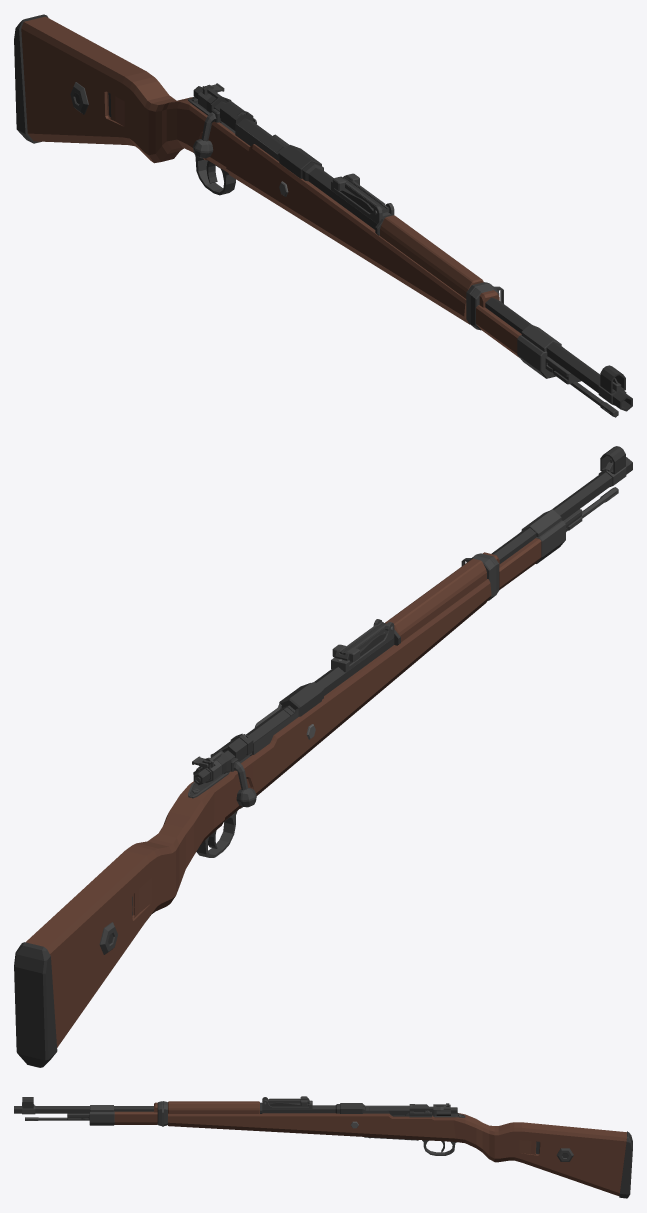
The model's file is WWII_Recon_0418.fbx.
3 views of the same model, one above another, from view 1: azimuth 30°, elevation 25°; view 2: azimuth 150°, elevation 25°; view 3: azimuth 270°, elevation 25° (orthographic). The views are drawn at different scales.
Visible parts, largest first — view 1: WWII_Recon_A_Receiver, WWII_Recon_A_Barrel, WWII_Recon_A_Sight, WWII_Recon_A_Bolt, WWII_Recon_A_Bolt_Part; view 2: WWII_Recon_A_Receiver, WWII_Recon_A_Barrel, WWII_Recon_A_Bolt, WWII_Recon_A_Sight; view 3: WWII_Recon_A_Receiver, WWII_Recon_A_Barrel, WWII_Recon_A_Bolt, WWII_Recon_A_Sight.
Boxes of the visible parts, x1=… form: WWII_Recon_A_Receiver: x1=14, y1=14, x2=561, y2=378; WWII_Recon_A_Barrel: x1=235, y1=123, x2=632, y2=417; WWII_Recon_A_Sight: x1=331, y1=173, x2=394, y2=223; WWII_Recon_A_Bolt: x1=193, y1=83, x2=286, y2=153; WWII_Recon_A_Bolt_Part: x1=193, y1=109, x2=221, y2=158; WWII_Recon_A_Receiver: x1=14, y1=509, x2=565, y2=1067; WWII_Recon_A_Barrel: x1=249, y1=446, x2=632, y2=755; WWII_Recon_A_Bolt: x1=192, y1=705, x2=295, y2=785; WWII_Recon_A_Sight: x1=331, y1=619, x2=394, y2=672; WWII_Recon_A_Receiver: x1=89, y1=1101, x2=632, y2=1198; WWII_Recon_A_Barrel: x1=14, y1=1097, x2=409, y2=1120; WWII_Recon_A_Bolt: x1=363, y1=1103, x2=457, y2=1116; WWII_Recon_A_Sight: x1=262, y1=1096, x2=312, y2=1108.
Bounding box in the file's own units: 5.97 × 21.64 × 122.
